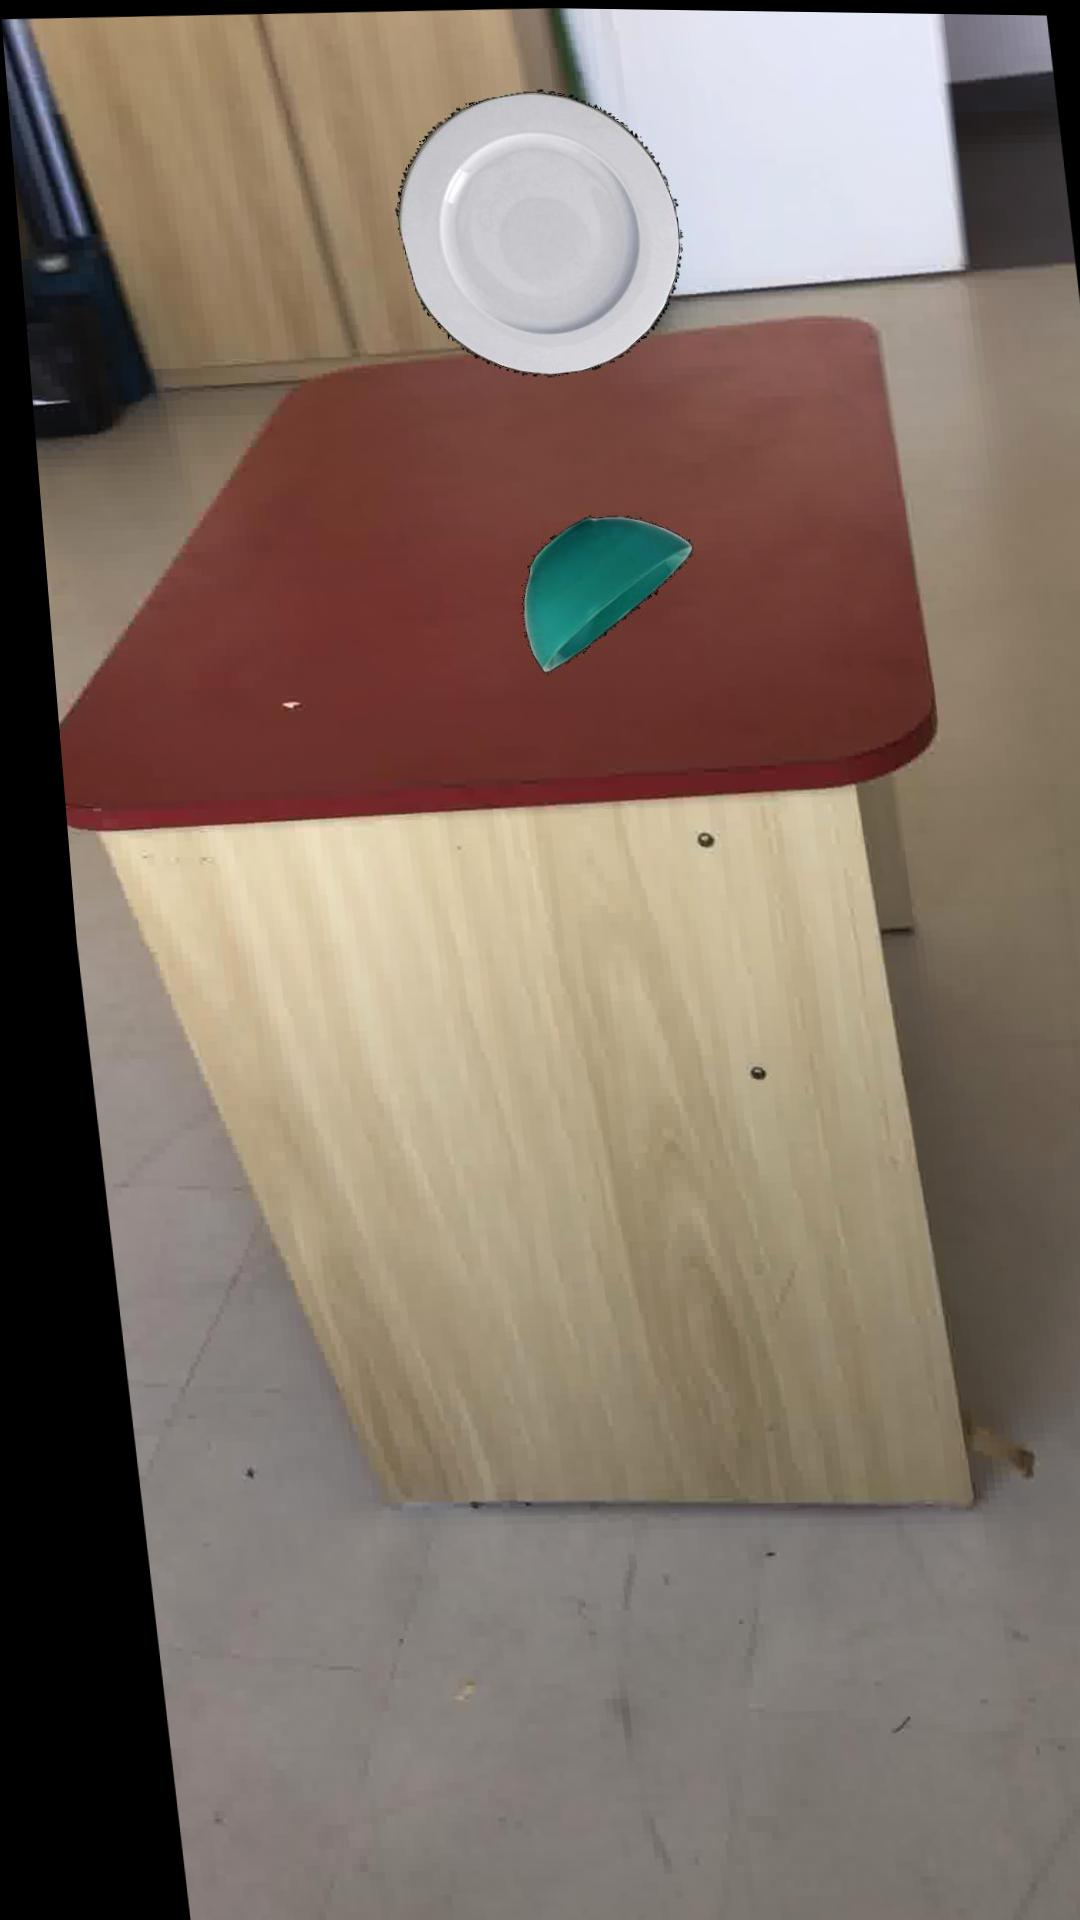bowl: (510, 512, 680, 669)
plate: (389, 86, 674, 372)
